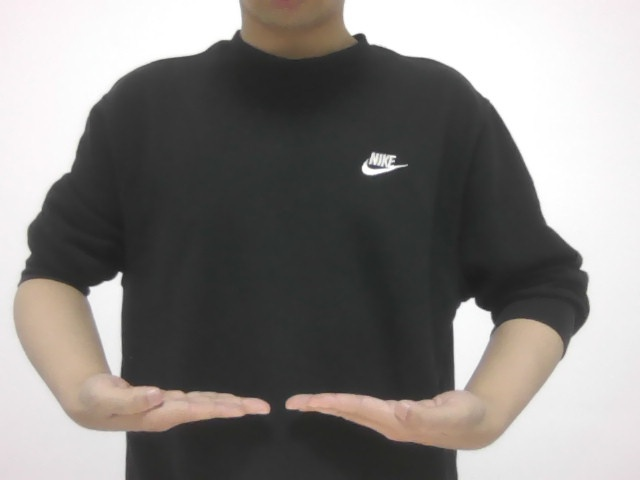today: (76, 345, 492, 469)
